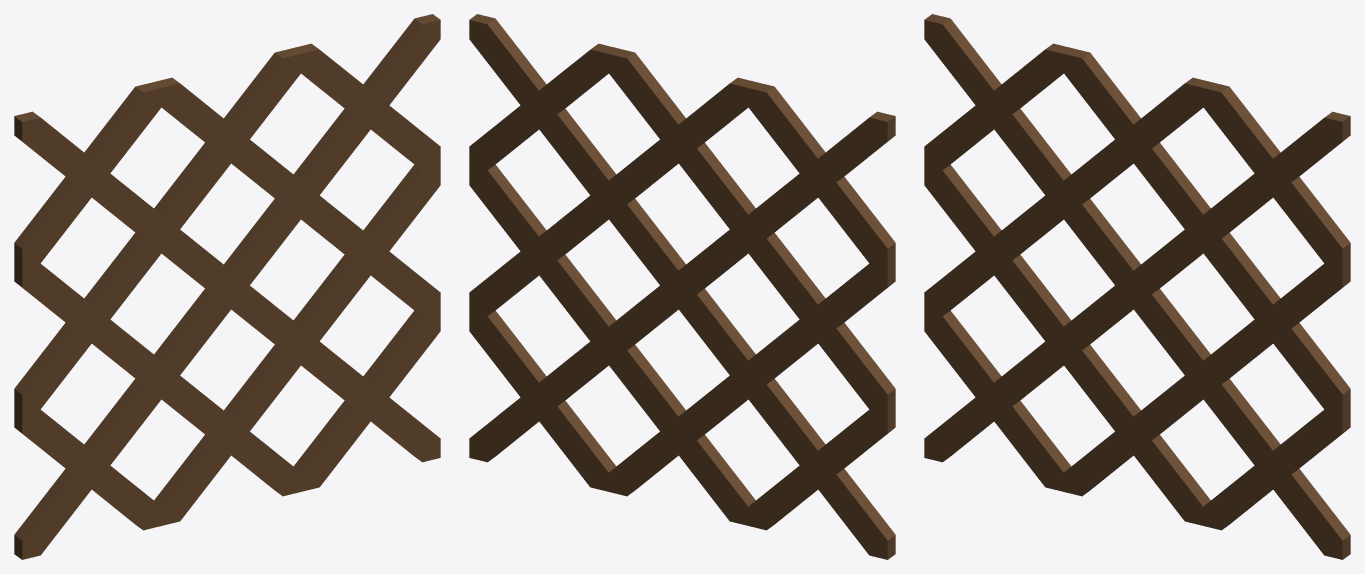
File: SM_Wooden_Fence_Wall_3x3m_Empire.fbx
3 renders of one model, left to right at view 1: azimuth 30°, elevation 25°; view 2: azimuth 150°, elevation 25°; view 3: azimuth 330°, elevation 25°, orthographic.
Parts seen in each view (by area): view 1: SM_Wooden_Fence_Wall_3x3m_Empire; view 2: SM_Wooden_Fence_Wall_3x3m_Empire; view 3: SM_Wooden_Fence_Wall_3x3m_Empire.
Boxes of the visible parts, box(x1,y1,x2,y2) form: SM_Wooden_Fence_Wall_3x3m_Empire: box(14, 14, 440, 559); SM_Wooden_Fence_Wall_3x3m_Empire: box(469, 14, 895, 559); SM_Wooden_Fence_Wall_3x3m_Empire: box(924, 14, 1350, 559).
Bounding box in the file's own units: 3 × 3 × 0.1.
